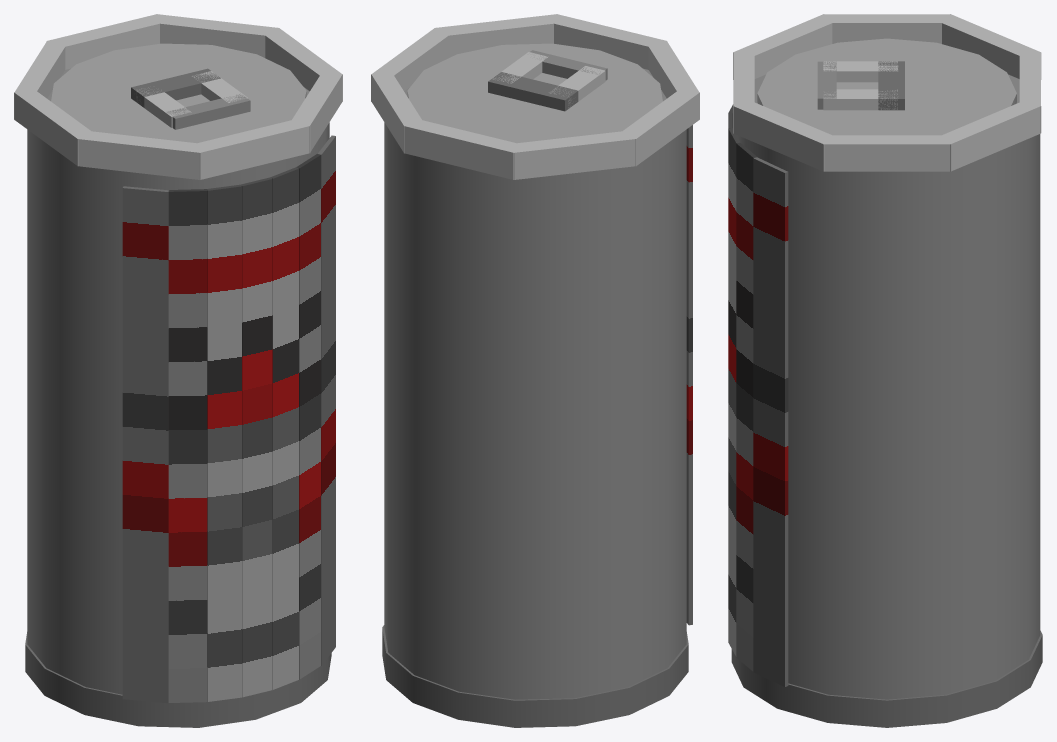
File: CMU3DBobdaCherryCloud.glb
The picture shows the model from 3 angles, left to right: view 1: azimuth 30°, elevation 25°; view 2: azimuth 150°, elevation 25°; view 3: azimuth 270°, elevation 25°; orthographic projection.
Visible parts, largest first — view 1: closed aluminium can body, original printed label strip 1, original printed label strip 2, original printed label strip 3, original printed label strip 4, recessed aluminium lid, original printed label strip 5, original printed label strip 6, rolled bottom seam, original printed label strip 7, raised upper rim 06, raised upper rim 07 (+10 smaller); view 2: closed aluminium can body, recessed aluminium lid, rolled bottom seam, raised upper rim 04, raised upper rim 03, original printed label strip 1, raised upper rim 08, raised upper rim 05, raised upper rim 07, raised upper rim 01, raised upper rim 02, pull tab rear bridge (+4 smaller); view 3: closed aluminium can body, original printed label strip 7, recessed aluminium lid, original printed label strip 6, rolled bottom seam, original printed label strip 5, raised upper rim 01, raised upper rim 02, raised upper rim 08, raised upper rim 05, raised upper rim 06, raised upper rim 04 (+6 smaller).
Part boxes in pixels (box(x1,y1,x2,y2)): closed aluminium can body: box(27, 68, 329, 694); original printed label strip 1: box(122, 186, 168, 703); original printed label strip 2: box(168, 189, 207, 702); original printed label strip 3: box(207, 184, 241, 701); original printed label strip 4: box(241, 177, 272, 697); recessed aluminium lid: box(51, 43, 306, 143); original printed label strip 5: box(270, 167, 298, 689); original printed label strip 6: box(296, 154, 320, 679); rolled bottom seam: box(25, 632, 331, 727); original printed label strip 7: box(318, 135, 335, 665); raised upper rim 06: box(77, 131, 205, 179); raised upper rim 07: box(195, 118, 310, 179); closed aluminium can body: box(384, 68, 686, 699); recessed aluminium lid: box(407, 43, 662, 143); rolled bottom seam: box(382, 625, 688, 727); raised upper rim 04: box(508, 130, 636, 179); raised upper rim 03: box(403, 118, 524, 179); original printed label strip 1: box(686, 125, 692, 625); raised upper rim 08: box(434, 14, 562, 57); raised upper rim 05: box(618, 88, 699, 165); raised upper rim 07: box(546, 14, 666, 69); raised upper rim 01: box(371, 28, 452, 101); raised upper rim 02: box(371, 72, 424, 153); pull tab rear bridge: box(488, 72, 578, 111); closed aluminium can body: box(736, 74, 1040, 699); original printed label strip 7: box(753, 157, 788, 686); recessed aluminium lid: box(757, 38, 1016, 135); original printed label strip 6: box(736, 142, 757, 671); rolled bottom seam: box(731, 630, 1042, 727); original printed label strip 5: box(728, 128, 740, 656); raised upper rim 01: box(823, 135, 951, 171); raised upper rim 02: box(936, 99, 1041, 171); raised upper rim 08: box(733, 100, 838, 171); raised upper rim 05: box(823, 14, 951, 43); raised upper rim 06: box(733, 14, 838, 79); raised upper rim 04: box(936, 14, 1041, 79).
Size of what is drawn, in the model's own units: 0.278 by 0.575 by 0.281.
Materials: 11 (7 with a texture image).
